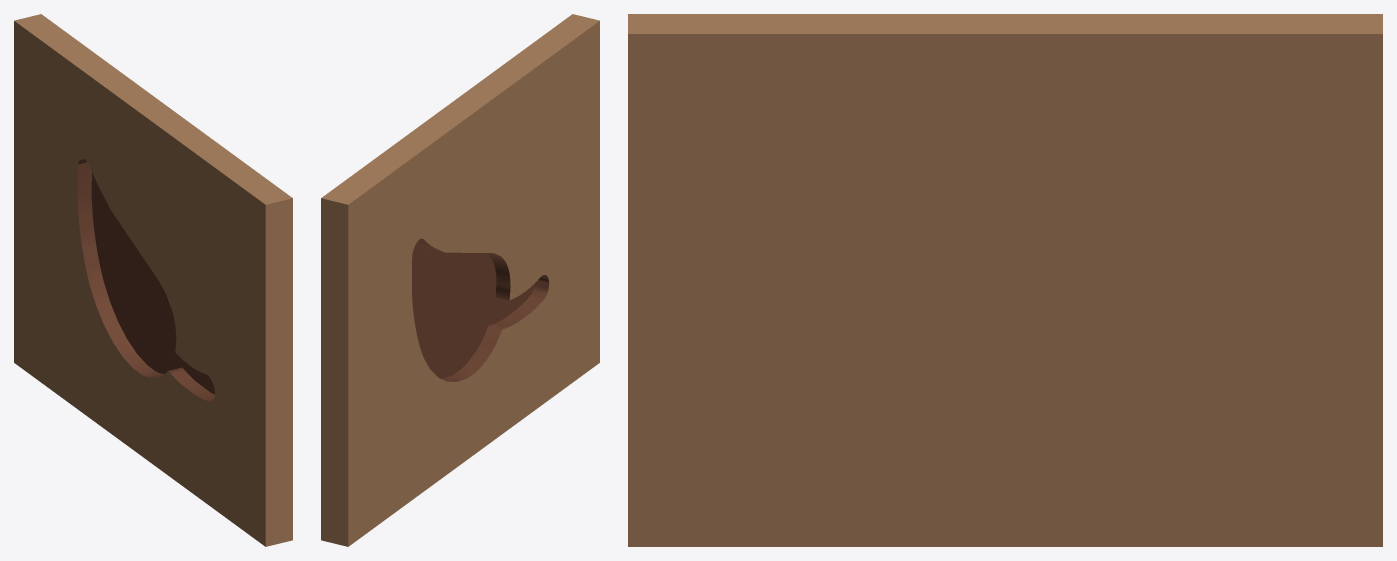
Rendered from SignFall.glb.
The picture shows the model from 3 angles, left to right: view 1: azimuth 30°, elevation 25°; view 2: azimuth 150°, elevation 25°; view 3: azimuth 270°, elevation 25°; orthographic projection. The views are drawn at different scales.
Parts seen in each view (by area): view 1: Cube; view 2: Cube; view 3: Cube.
Part boxes in pixels (x1,y1,x2,y2): Cube: (14, 14, 292, 546); Cube: (321, 14, 599, 546); Cube: (628, 14, 1382, 546).
Size of the model in its own units: 0.1 by 1.2 by 1.6.
